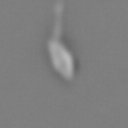abnormal: (42, 1, 73, 45)
